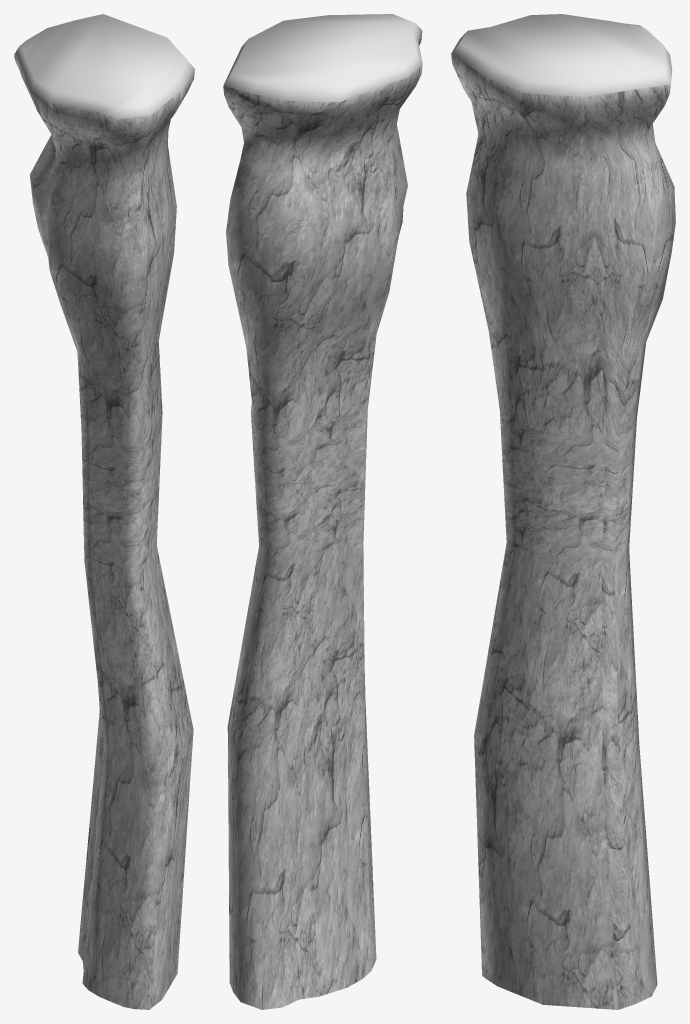
Rendered from Cliff_New_05 1.fbx.
3 views of the same model, side by side, from view 1: azimuth 30°, elevation 25°; view 2: azimuth 150°, elevation 25°; view 3: azimuth 270°, elevation 25° (orthographic).
Parts seen in each view (by area): view 1: Cliff_New_05; view 2: Cliff_New_05; view 3: Cliff_New_05.
Part boxes in pixels (box(x1,y1,x2,y2)): Cliff_New_05: box(14, 14, 194, 1009); Cliff_New_05: box(223, 14, 422, 1009); Cliff_New_05: box(451, 14, 675, 1009).
Size of the model in its own units: 13249 by 74049 by 16250.
